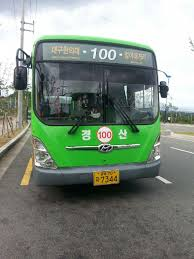bnum: (88, 44, 119, 62)
